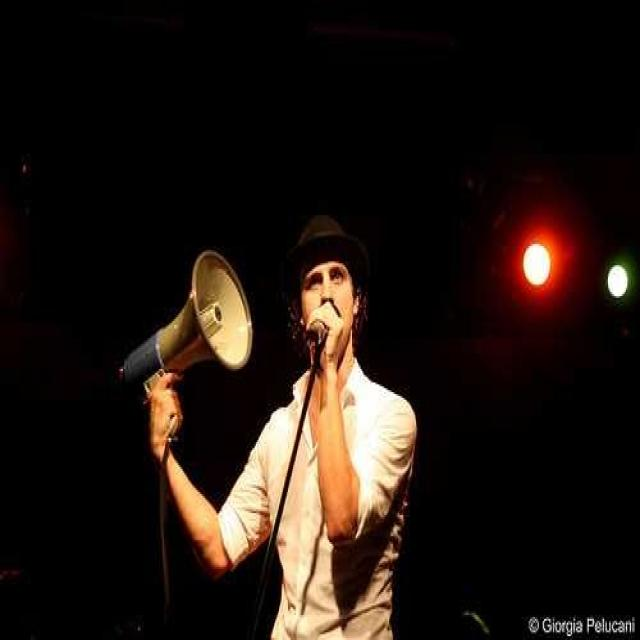microphone: (305, 300, 339, 355)
